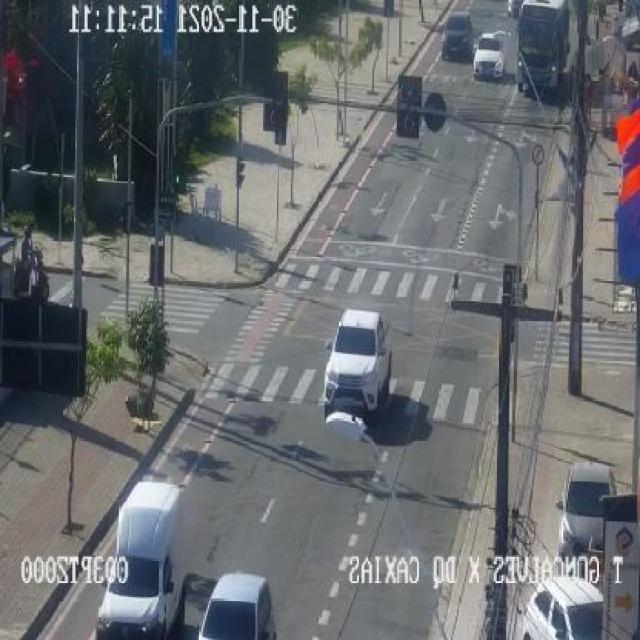Bus: (515, 0, 575, 107)
Car: (320, 308, 399, 420), (553, 451, 615, 571), (195, 566, 280, 640), (521, 579, 607, 640), (472, 30, 508, 88), (443, 1, 472, 71)
Cycle: (11, 220, 49, 294)
Truck: (93, 474, 199, 640)
